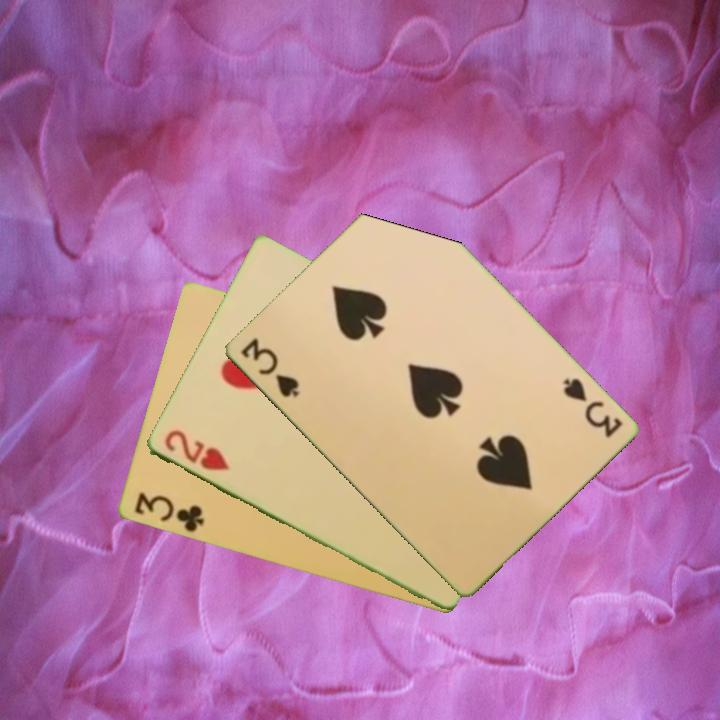2h: (160, 426, 232, 474)
3c: (130, 489, 207, 535)
3s: (236, 334, 302, 401), (559, 374, 625, 441)
